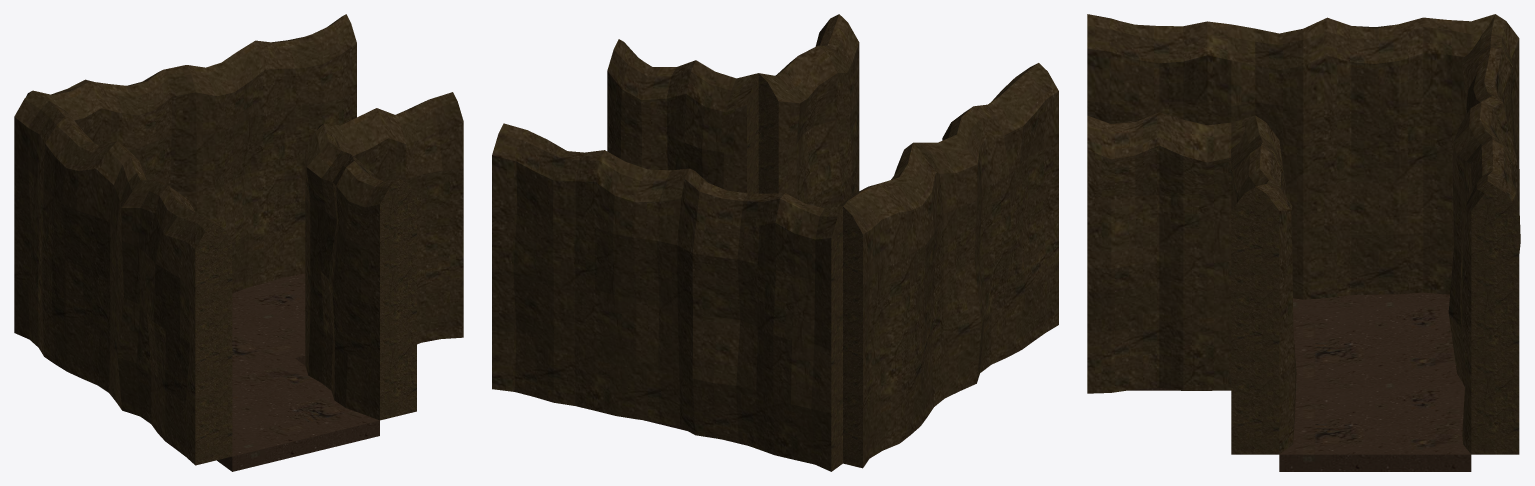
File: cave_corner_01_dirt.glb
3 views of the same model, side by side, from view 1: azimuth 30°, elevation 25°; view 2: azimuth 150°, elevation 25°; view 3: azimuth 270°, elevation 25° (orthographic). The views are drawn at different scales.
Visible parts, largest first — view 1: cave_corner_01_dirt; view 2: cave_corner_01_dirt; view 3: cave_corner_01_dirt.
Boxes of the visible parts, x1,y1,x2,y2 form: cave_corner_01_dirt: (14,14,463,471); cave_corner_01_dirt: (492,14,1058,471); cave_corner_01_dirt: (1087,14,1520,471).
Bounding box in the file's own units: 4.58 × 3.3 × 4.51.
Materials: 2 (2 with a texture image).
